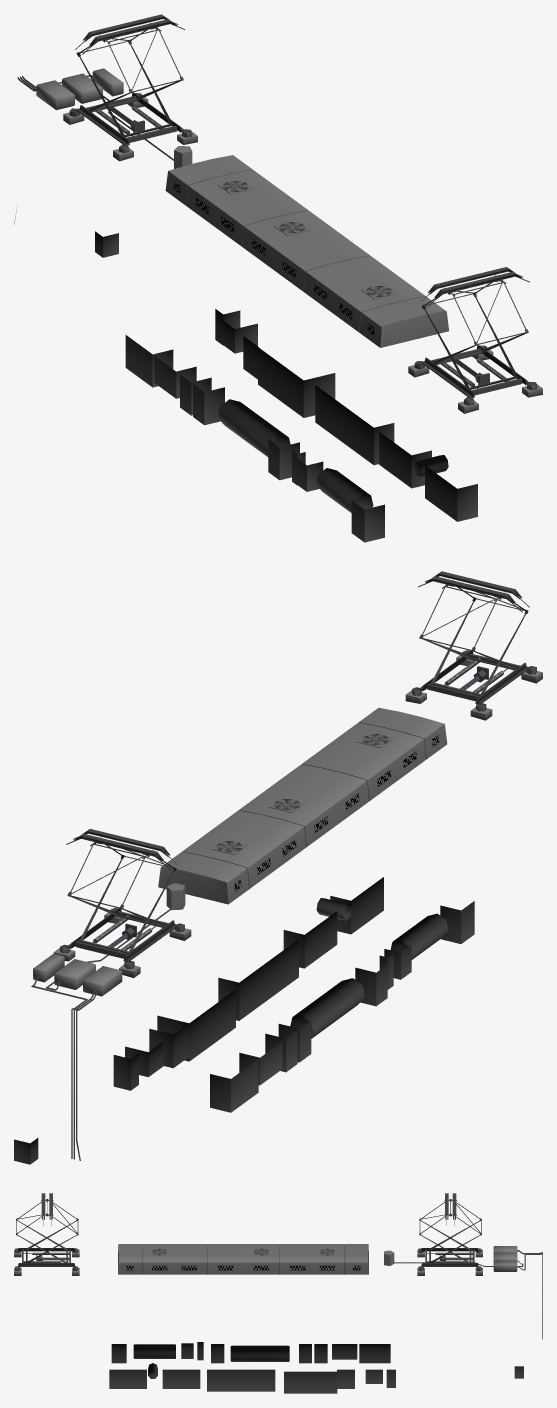
File: K8000_PANTA00.glb
3 views of the same model, one above another, from view 1: azimuth 30°, elevation 25°; view 2: azimuth 150°, elevation 25°; view 3: azimuth 270°, elevation 25° (orthographic). The views are drawn at different scales.
Parts seen in each view (by area): view 1: obj5; view 2: obj5; view 3: obj5.
Boxes of the visible parts, bbox=[...] form: obj5: bbox=[14, 14, 542, 542]; obj5: bbox=[14, 571, 542, 1164]; obj5: bbox=[14, 1193, 542, 1393].
Bounding box in the file's own units: 5.13 × 12.24 × 34.08.
5 materials, 5 textured.
